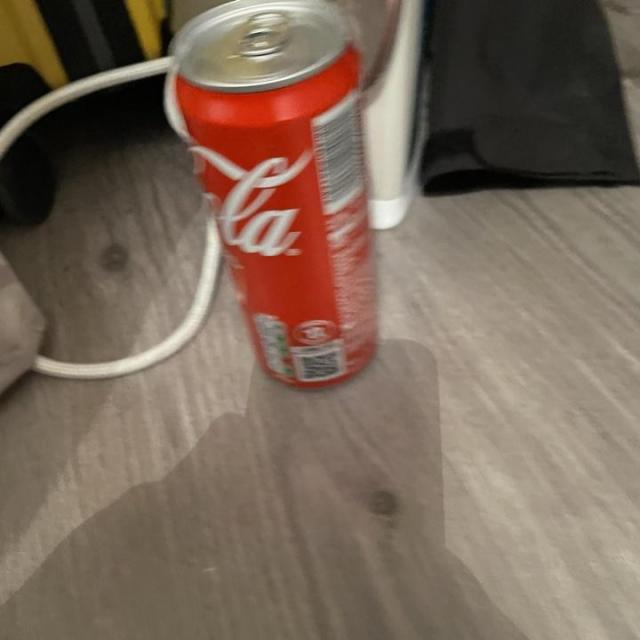recyclable: (165, 2, 416, 414)
